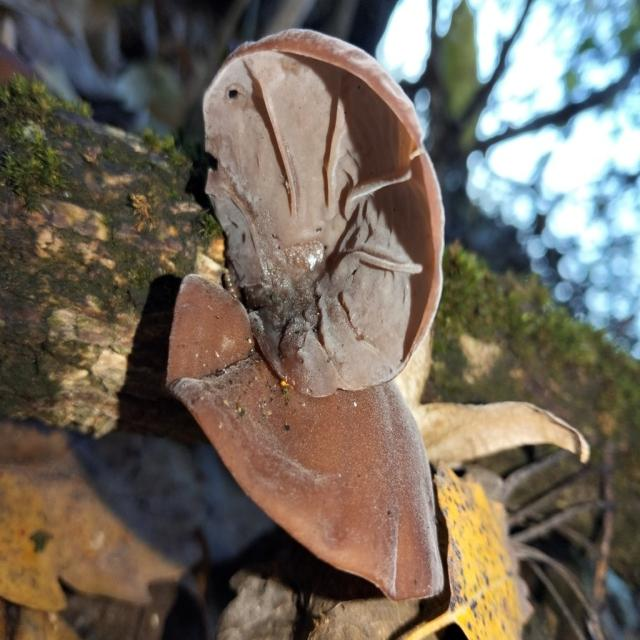Matang: (162, 274, 447, 600), (200, 27, 444, 398)
